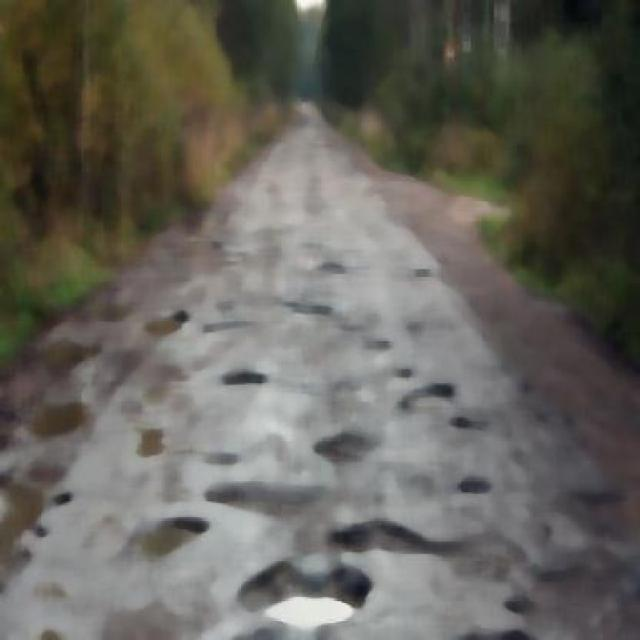Pothole: (255, 548, 372, 638), (0, 460, 54, 574), (132, 509, 200, 563), (315, 428, 370, 479), (35, 400, 87, 446), (400, 378, 460, 413), (141, 306, 188, 349), (218, 362, 272, 396), (288, 296, 334, 326)
